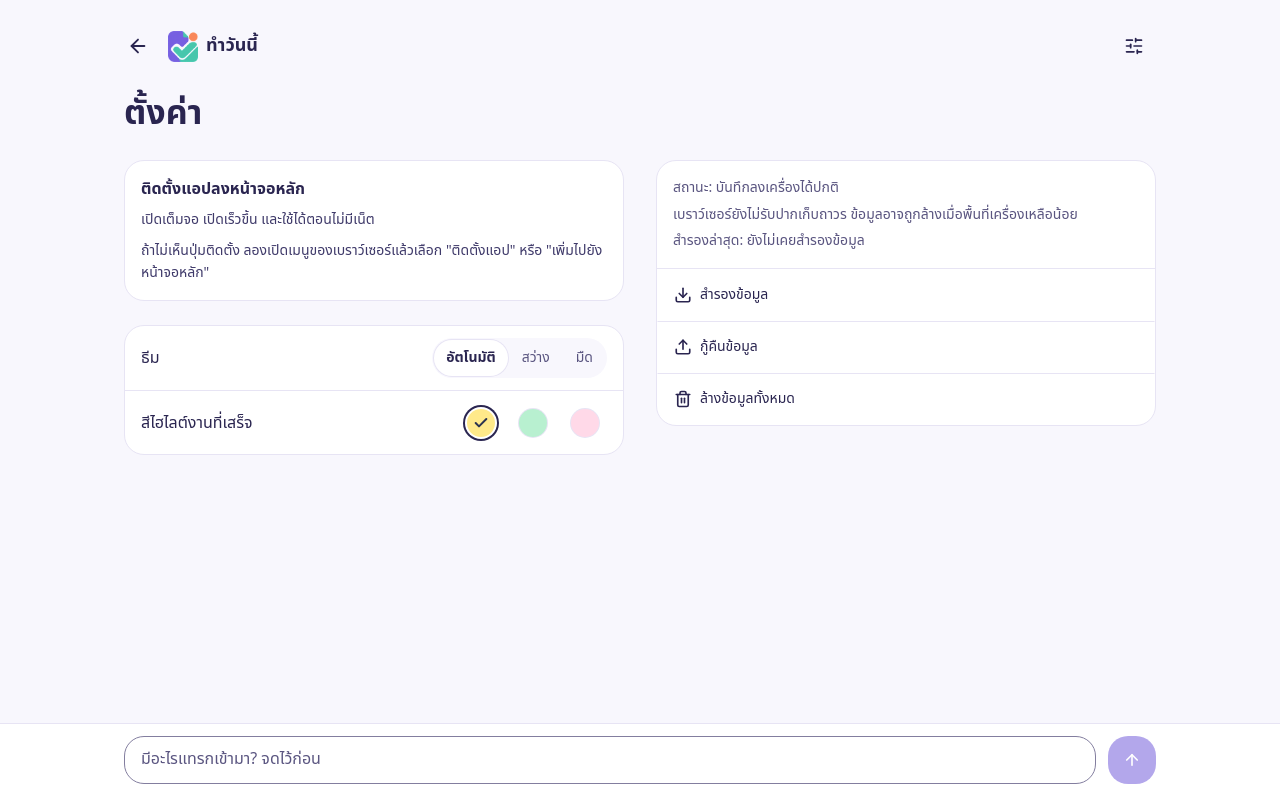
Test: สำรองข้อมูล (เฟส 6) › ดาวน์โหลดไฟล์ JSON ที่มีงานและที่พักความคิดครบ ตั้งชื่อตามวันที่ และบันทึกเวลาสำรองล่าสุด
Click the button "สำรองข้อมูล".
click(734, 294)  # box [657,269,1155,321]
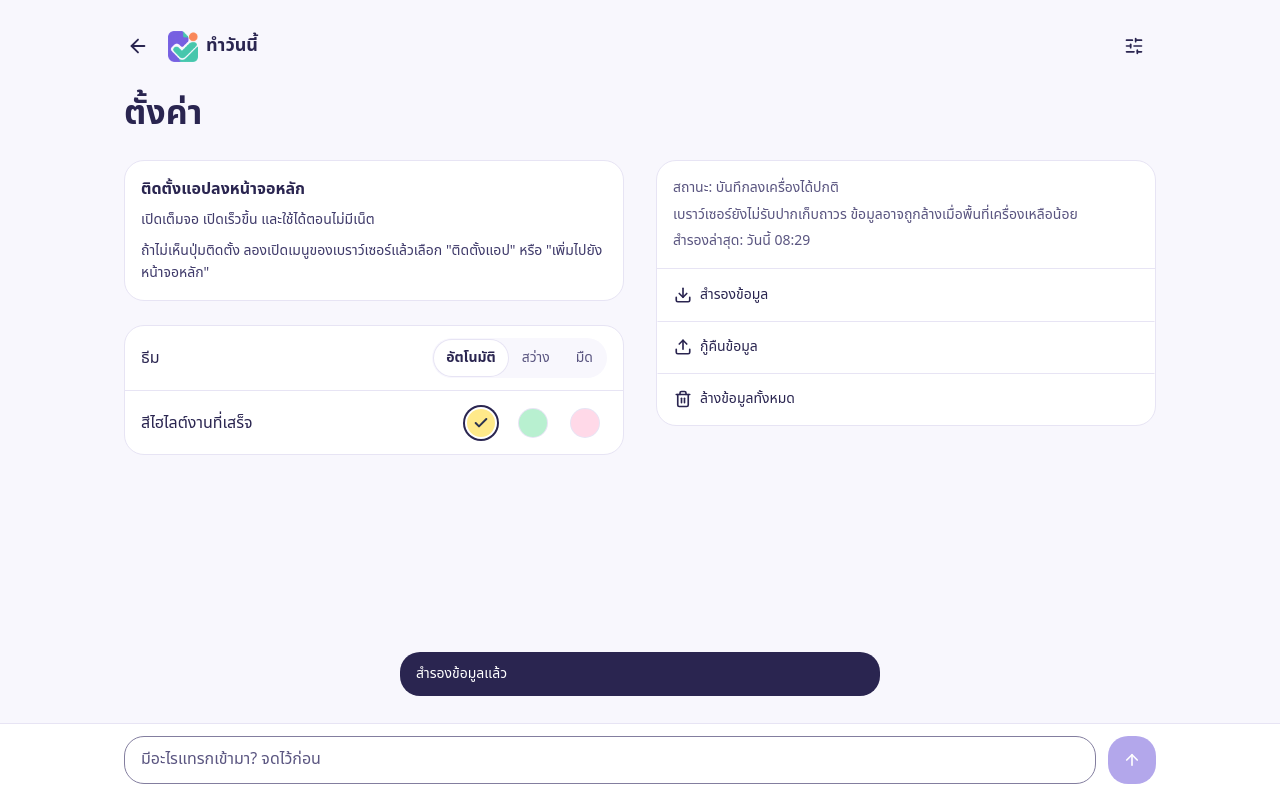
expect the text "สำรองข้อมูลแล้ว" is shown: met, box [416,663,507,684]
expect the text "สำรองล่าสุด: วันนี้" is shown: met, box [673,230,810,251]
